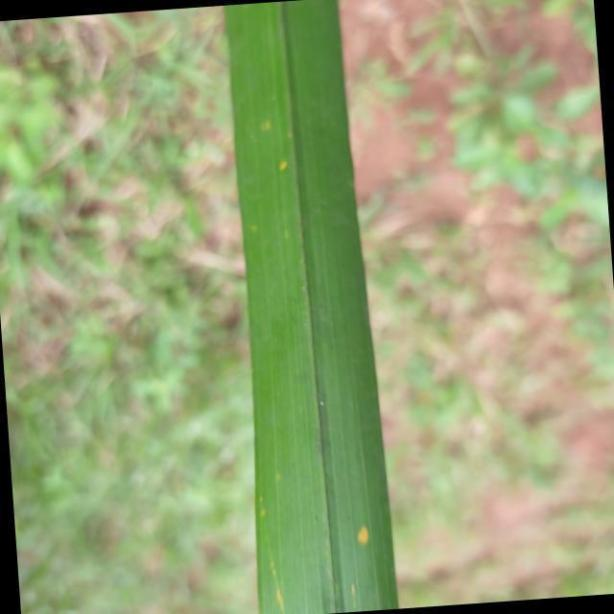Kalium: (224, 0, 401, 614)
